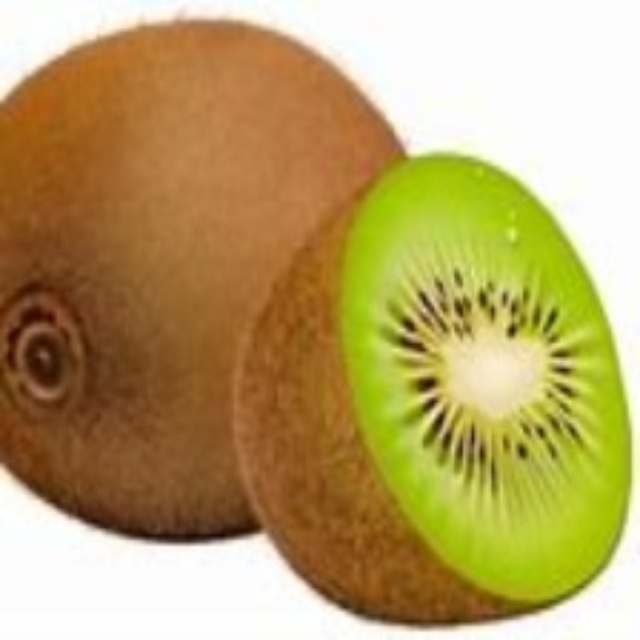kiwi: (3, 28, 419, 551), (231, 149, 632, 624)
